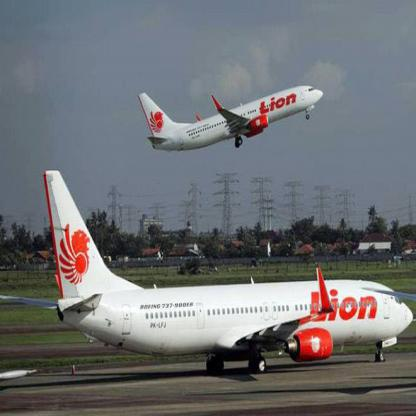CIV_Plane: (0, 168, 415, 376), (132, 80, 326, 157)
